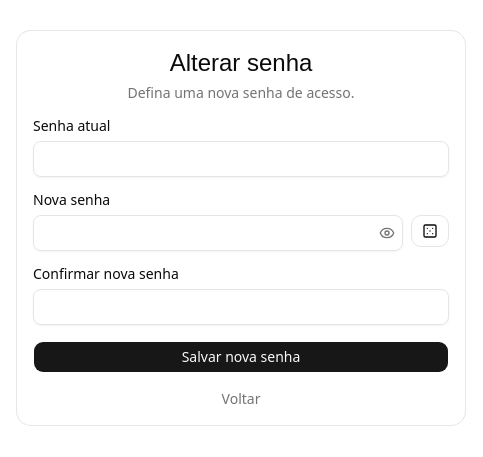
Test: ChangePasswordPage › validates mismatching confirmation
In the password field labelled "Senha atual": (241, 159) [33,141,449,177], type "old-secret"
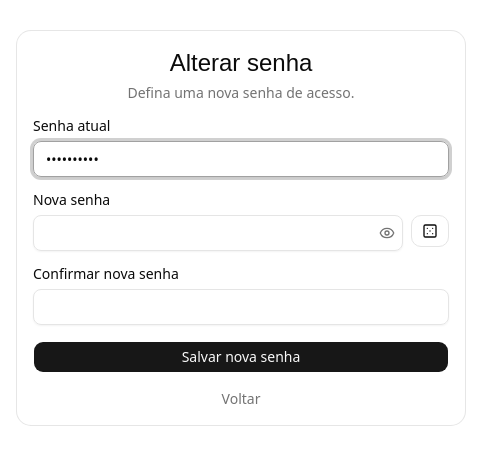
In the password field labelled "Nova senha": (218, 233) [33,215,403,251], type "NewStrong123!"
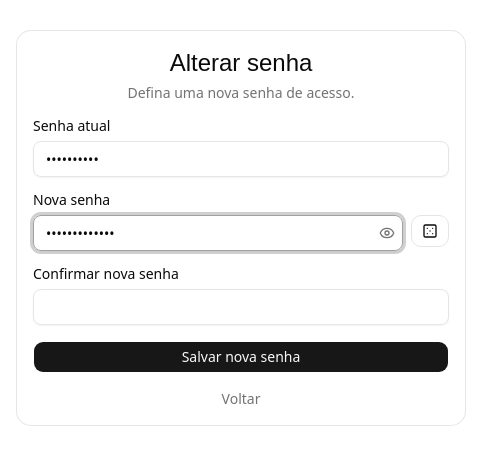
In the password field labelled "Confirmar nova senha": (241, 307) [33,289,449,325], type "DifferentPass!"
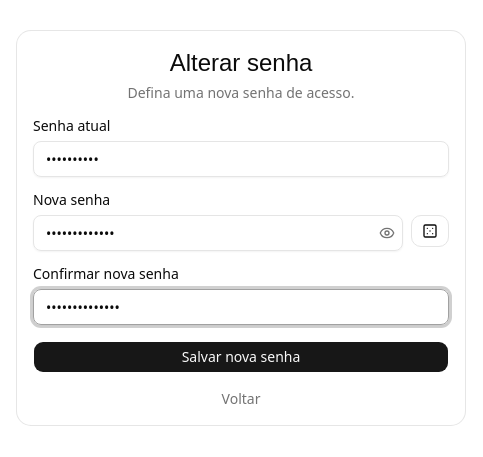
Click the button "Salvar nova senha": (241, 357) [33,341,449,373]
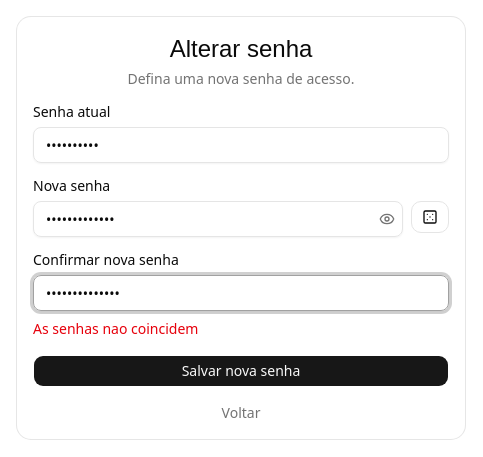
Expected: the text "As senhas nao coincidem" is shown, [33,319,198,338]
